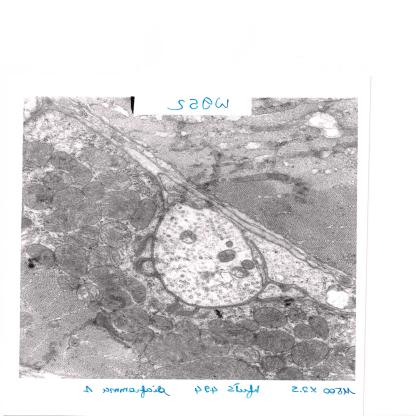mitochondria: (146, 357, 271, 379), (144, 333, 207, 365), (43, 203, 102, 233), (51, 151, 94, 187), (207, 320, 257, 347), (98, 190, 140, 220), (291, 340, 331, 368), (55, 246, 89, 278), (195, 328, 232, 356), (255, 330, 297, 353), (128, 198, 158, 230), (111, 309, 150, 333), (88, 266, 127, 290), (22, 183, 54, 210), (250, 307, 289, 329), (99, 222, 132, 248), (22, 142, 53, 168), (48, 188, 84, 210), (100, 289, 133, 313), (86, 246, 121, 267), (26, 244, 55, 269), (66, 226, 100, 247), (97, 171, 133, 190), (323, 354, 353, 375), (44, 170, 74, 190), (308, 316, 330, 340), (81, 181, 106, 202), (127, 278, 148, 303), (176, 320, 201, 340), (232, 348, 262, 364), (76, 283, 101, 302), (261, 355, 287, 373), (149, 315, 175, 332), (57, 276, 82, 292), (292, 324, 316, 340), (276, 367, 303, 380), (236, 319, 262, 331), (216, 249, 237, 263), (287, 308, 308, 322), (136, 327, 155, 342), (179, 230, 198, 244), (231, 267, 250, 279), (311, 366, 329, 378), (239, 260, 256, 270), (224, 240, 234, 249)
